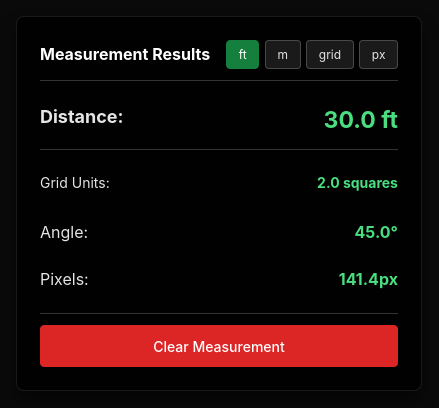
MeasurementTool › switches unit to meters
Click the button "m" at point(283, 54), box x1=265 y1=40 x2=300 y2=68
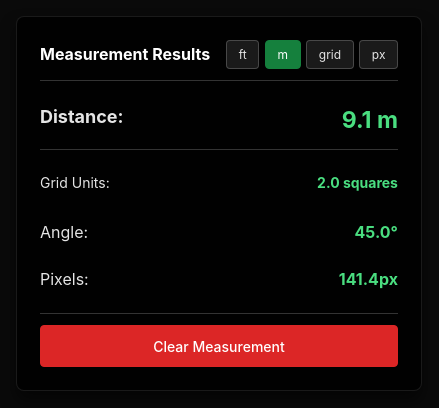
Expected: the text "9.1 m" is shown, x1=342 y1=103 x2=398 y2=137
